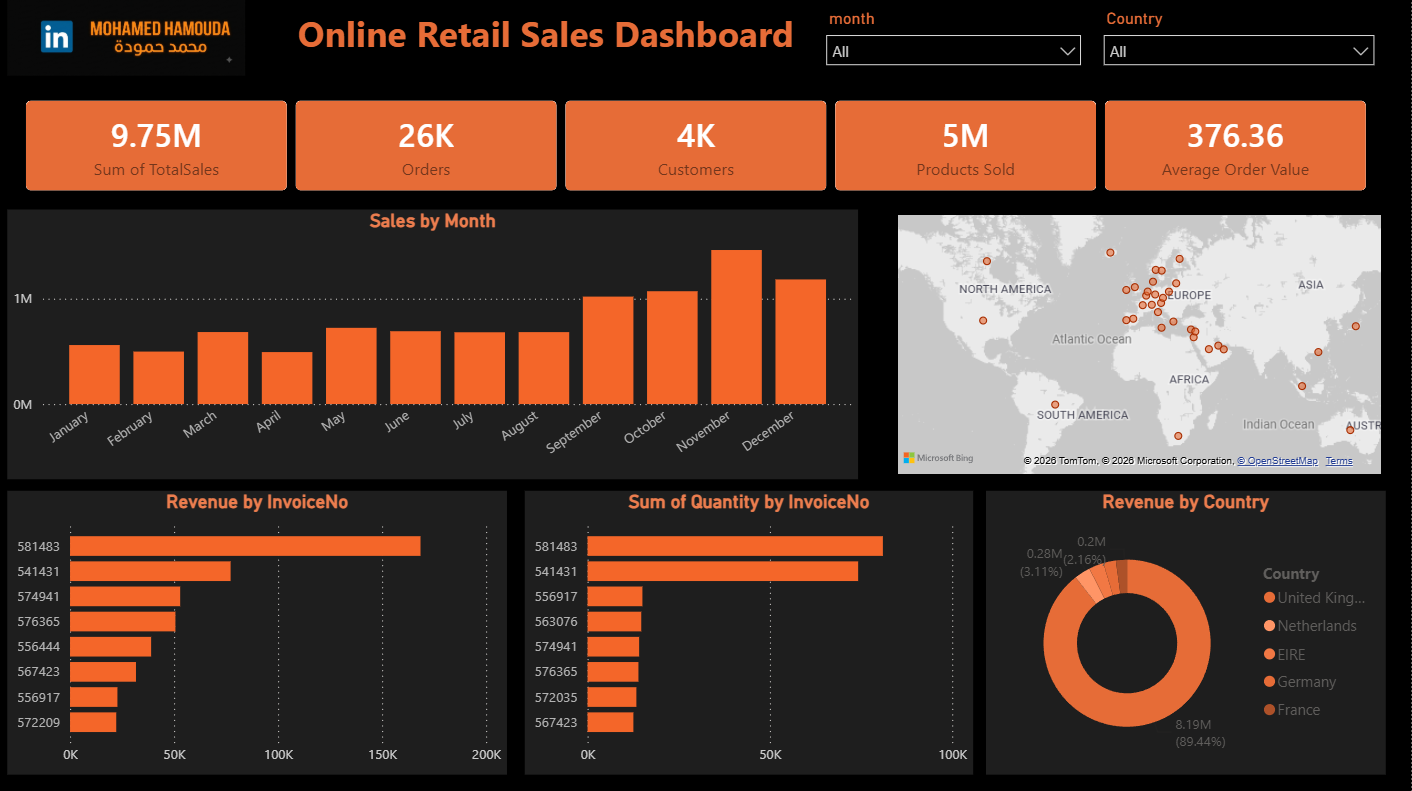

Layout of this report page (visuals, bound fields, positions):
{"tool":"powerbi","page":{"name":"Page 1","canvas":[1280,720],"ordinal":0},"visuals":[{"type":"image","box":[10.5,0,215.1,70.9],"z":0},{"type":"textbox","box":[254.7,5.8,486,60.5],"z":1},{"type":"slicer","fields":{"Values":["cleaned data.month"]},"box":[740.7,5.8,251.2,65.1],"z":2},{"type":"slicer","fields":{"Values":["cleaned data.Country"]},"box":[991.9,5.8,265.1,62.8],"z":3},{"type":"cardVisual","fields":{"Data":["Sum(cleaned data.TotalSales)","Dimdate.Orders","Dimdate.Customers","Dimdate.Products Sold","Dimdate.Average Order Value"]},"box":[10.5,76.7,1246.5,115.1],"z":4},{"type":"columnChart","title":"Sales by Month","fields":{"Y":["Dimdate.Revenue"],"Category":["Dimdate.Month Name"]},"box":[10.5,191.9,769.8,244.2],"z":5},{"type":"map","fields":{"Category":["cleaned data.Country"]},"box":[810.5,191.9,446.5,244.2],"z":6},{"type":"barChart","fields":{"Category":["cleaned data.InvoiceNo"],"Y":["Dimdate.Revenue"]},"box":[10.5,446.5,452.3,257],"z":7},{"type":"donutChart","fields":{"Category":["cleaned data.Country"],"Y":["Dimdate.Revenue"]},"box":[895.4,446.5,361.6,257],"z":9},{"type":"barChart","fields":{"Category":["cleaned data.InvoiceNo"],"Y":["Sum(cleaned data.Quantity)"]},"box":[477.9,446.5,405.8,257],"z":10}]}

Visuals, with their boxes in screenshot pixels (x1, y1, x2, y2), scaled from the page's 1280x720 canvas onto the 1412x791 screenshot:
image: bbox=[12, 0, 249, 78]
textbox: bbox=[281, 6, 817, 73]
slicer - cleaned data.month: bbox=[817, 6, 1094, 78]
slicer - cleaned data.Country: bbox=[1094, 6, 1387, 75]
cardVisual - Sum(cleaned data.TotalSales) x Dimdate.Orders: bbox=[12, 84, 1387, 211]
"Sales by Month" columnChart: bbox=[12, 211, 861, 479]
map - cleaned data.Country: bbox=[894, 211, 1387, 479]
barChart - cleaned data.InvoiceNo x Dimdate.Revenue: bbox=[12, 491, 511, 773]
donutChart - cleaned data.Country x Dimdate.Revenue: bbox=[988, 491, 1387, 773]
barChart - cleaned data.InvoiceNo x Sum(cleaned data.Quantity): bbox=[527, 491, 975, 773]
